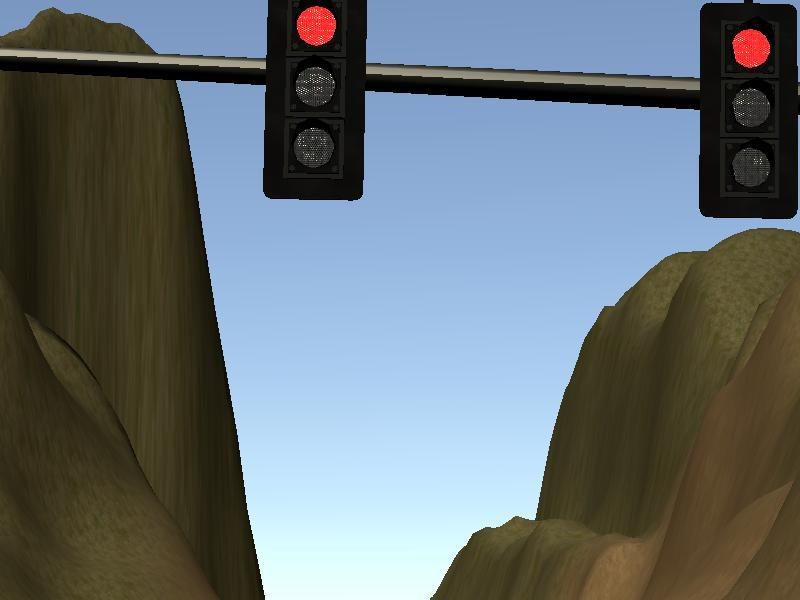Red: (702, 8, 795, 217), (268, 1, 362, 197)
